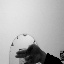h: (14, 42, 42, 64)
